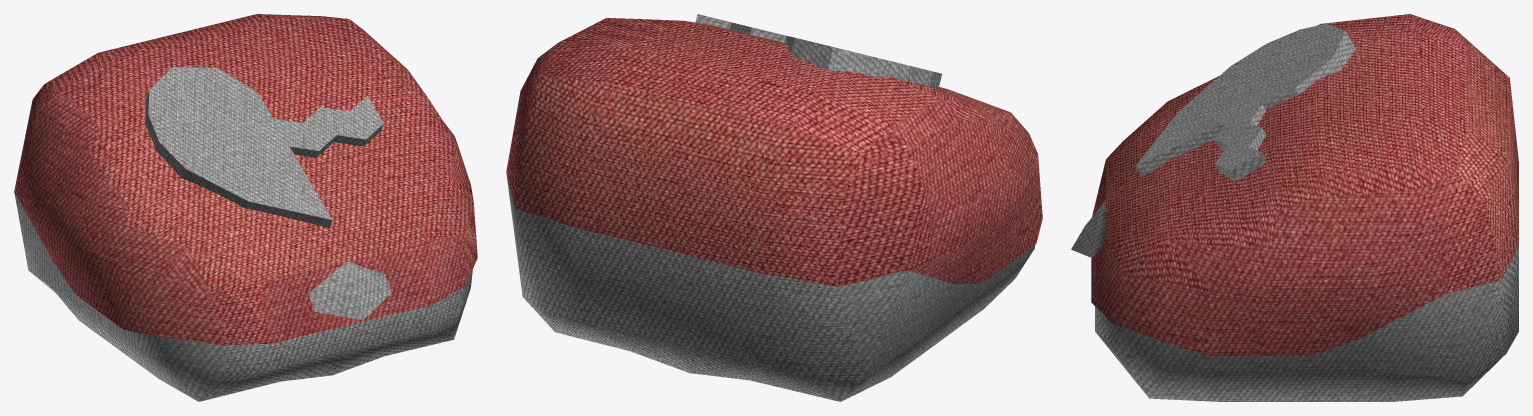
The model's file is healthKit.glb.
3 views of the same model, side by side, from view 1: azimuth 30°, elevation 25°; view 2: azimuth 150°, elevation 25°; view 3: azimuth 270°, elevation 25° (orthographic). The views are drawn at different scales.
Parts seen in each view (by area): view 1: Medikit; view 2: Medikit; view 3: Medikit.
Part boxes in pixels (left/top/right/bottom): Medikit: left=14, top=14, right=477, bottom=401; Medikit: left=506, top=14, right=1042, bottom=401; Medikit: left=1071, top=14, right=1518, bottom=401.
Bounding box in the file's own units: 0.4192 × 0.2664 × 0.4024.
1 material, 1 textured.
